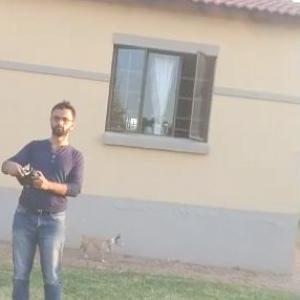follow: (0, 94, 92, 299)
null: (72, 222, 125, 266)
